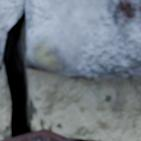brick: (1, 129, 72, 140)
broken_brick: (0, 0, 140, 77)
crack: (0, 2, 35, 138), (54, 70, 63, 74)
